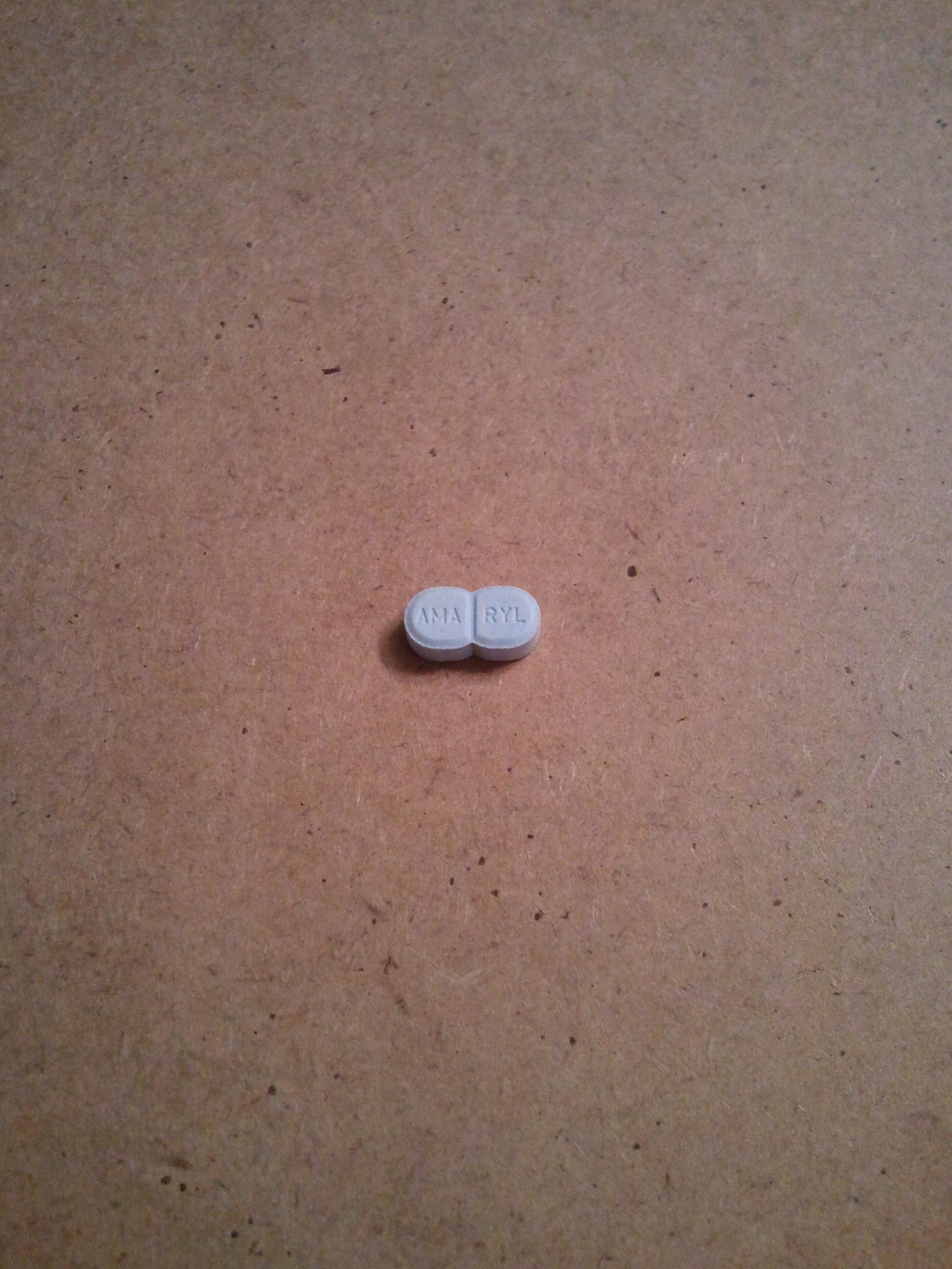Pill: (382, 568, 554, 674)
